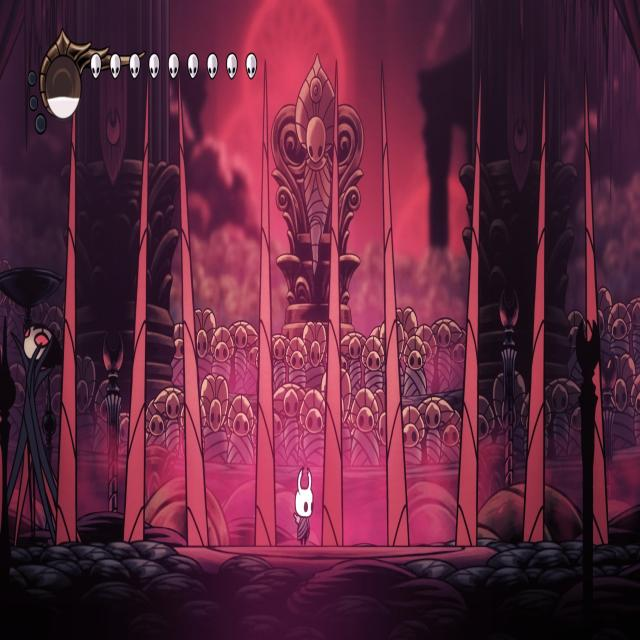Grimm: (1, 316, 66, 544)
Player: (291, 462, 316, 546)
Spikes: (179, 87, 209, 547), (381, 64, 409, 547), (124, 84, 149, 542), (322, 62, 344, 547), (456, 98, 479, 547), (255, 62, 276, 547), (524, 84, 546, 542), (56, 113, 78, 544), (585, 80, 599, 329), (594, 364, 609, 544)
